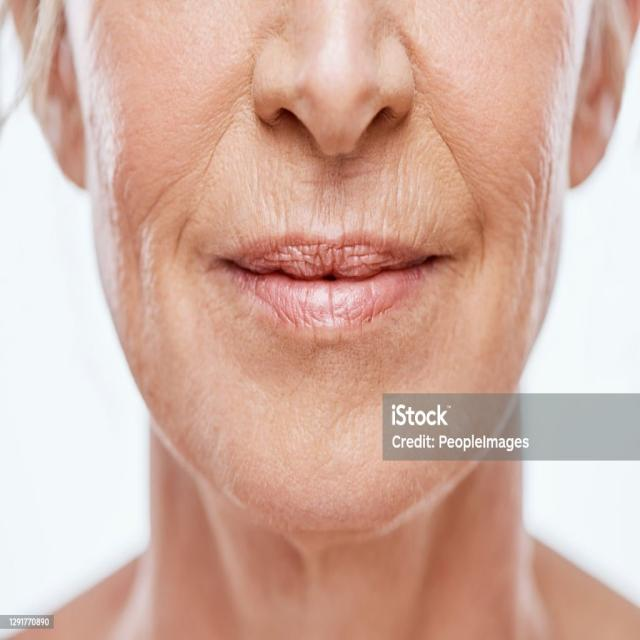Dry-Skin: (402, 26, 582, 376), (81, 29, 230, 404)
